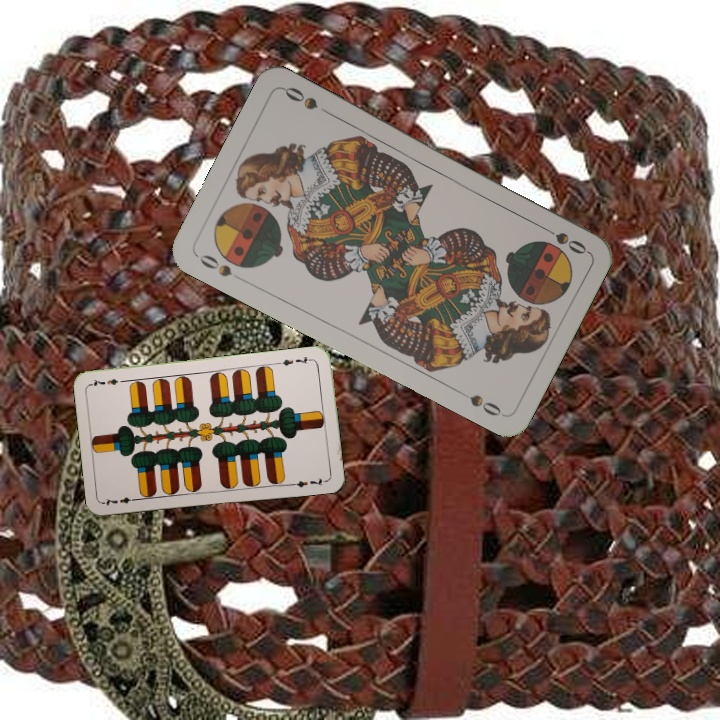E7: (275, 352, 315, 369), (100, 493, 141, 509)
SO: (535, 220, 590, 257), (193, 250, 234, 280)
